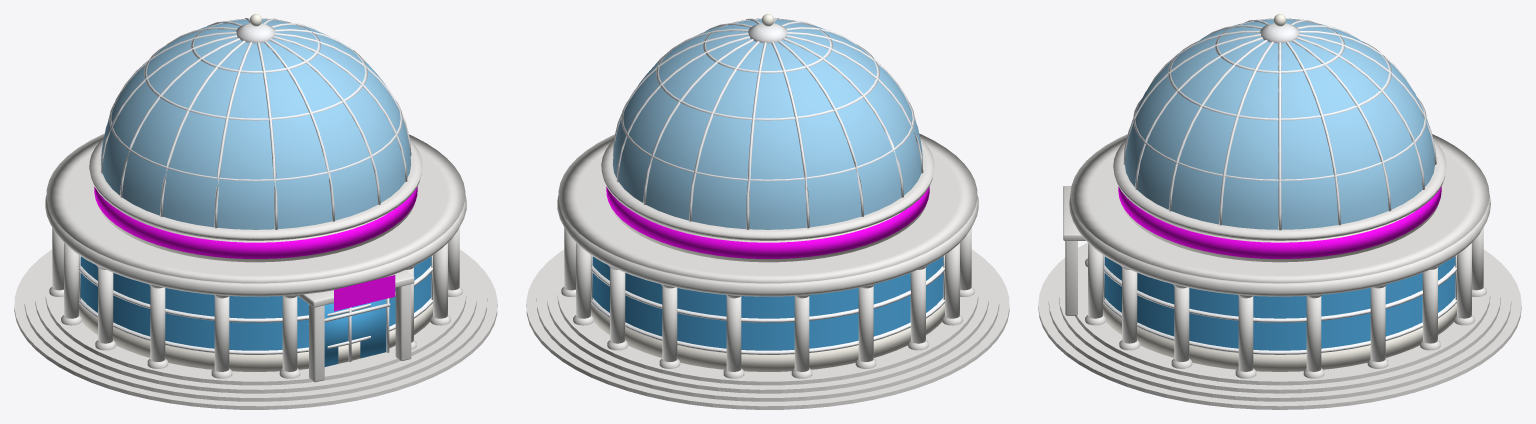
Rendered from town_hall.glb.
The picture shows the model from 3 angles, left to right: view 1: azimuth 30°, elevation 25°; view 2: azimuth 150°, elevation 25°; view 3: azimuth 270°, elevation 25°; orthographic projection.
Visible parts, largest first — view 1: town_hall; view 2: town_hall; view 3: town_hall.
Part boxes in pixels (box(x1,y1,x2,y2)): town_hall: box(14, 14, 497, 409); town_hall: box(526, 14, 1009, 409); town_hall: box(1038, 14, 1521, 409).
Size of the model in its own units: 23.2 by 15.53 by 23.2.
